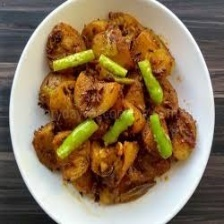sabzi: (33, 10, 197, 205)
